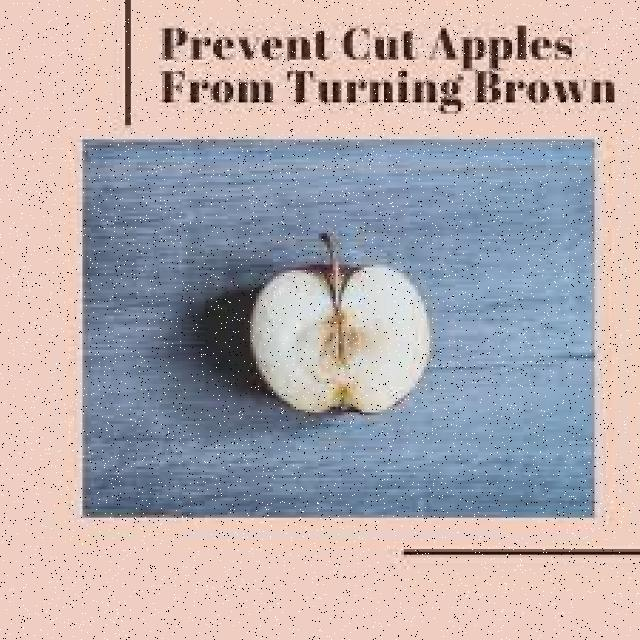Apple: (252, 266, 432, 414)
